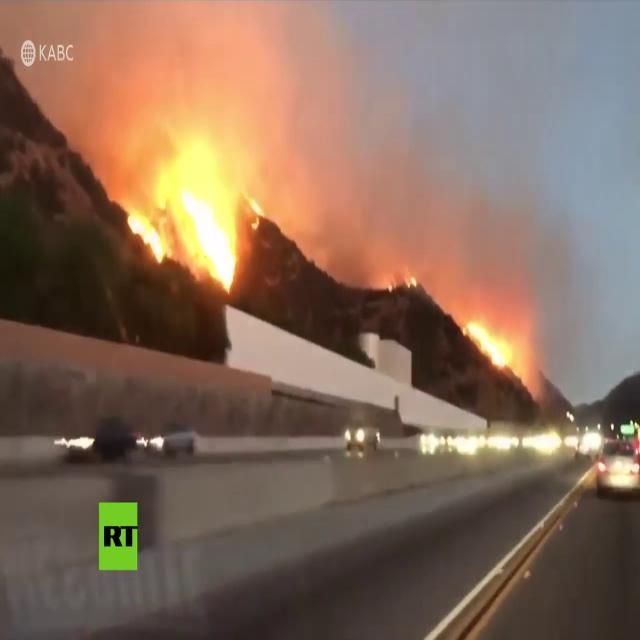Fire: (124, 168, 234, 292), (464, 318, 514, 369), (246, 194, 266, 230), (407, 276, 417, 286)
